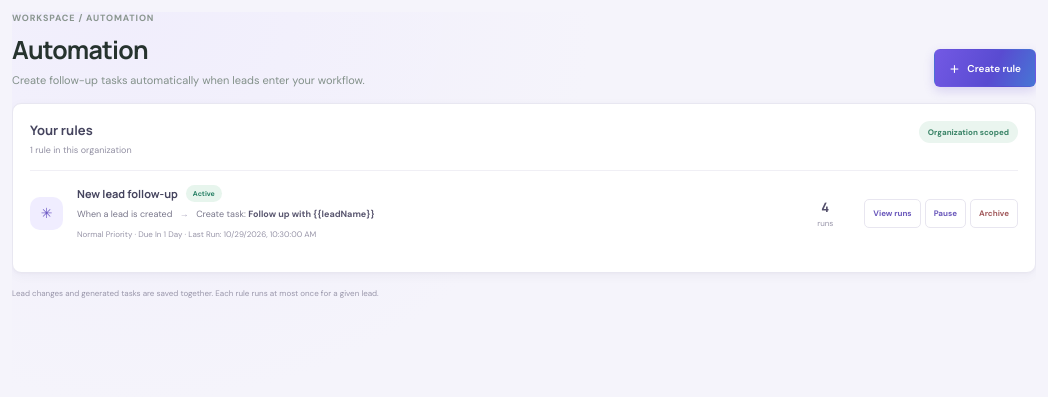
Scenario: AutomationsManager › pauses an active rule and refreshes the list
Expected: the heading "New lead follow-up" is shown, [77,186,178,201]
Click the button with aria-label "Pause New lead follow-up" at (945, 213), box [925,198,966,228]
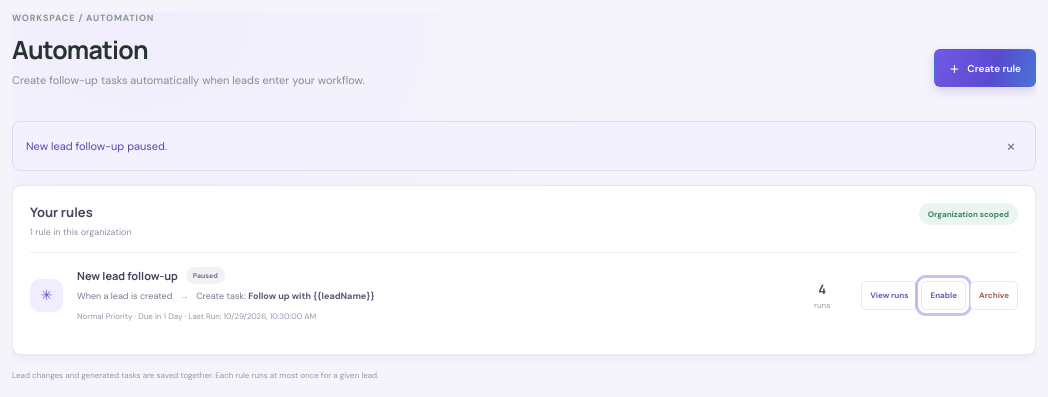
Now the text "Paused" is shown, box [186,267,225,284]
